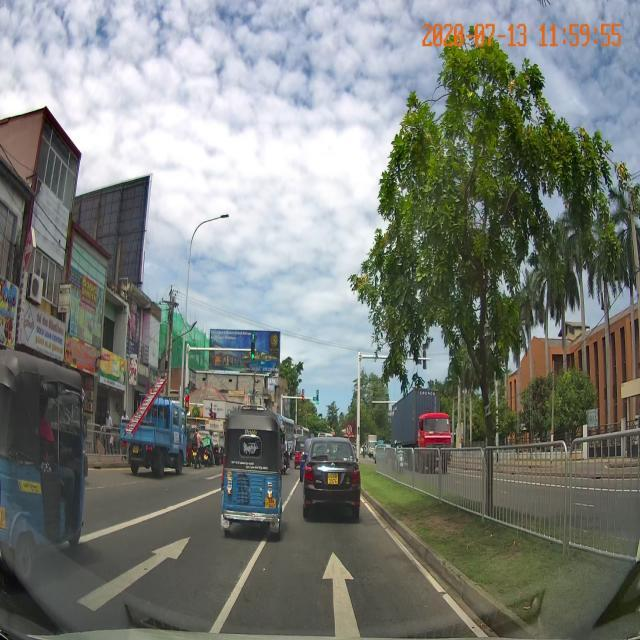forward: (211, 541, 495, 640)
